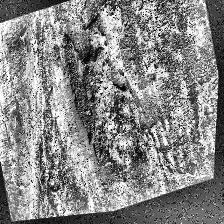pothole: (52, 7, 160, 190)
